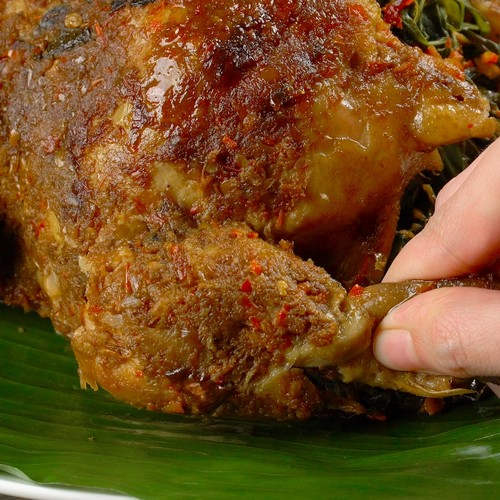ayam betutu: (5, 4, 372, 430)
